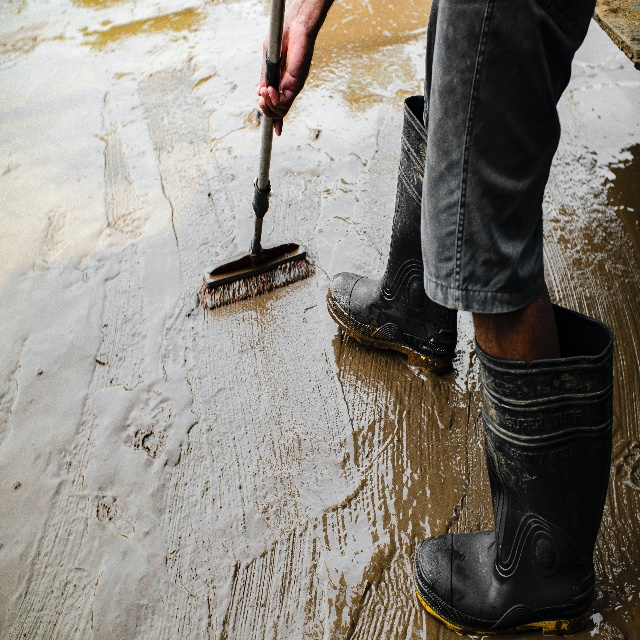Sin_guantes: (256, 3, 316, 138)
